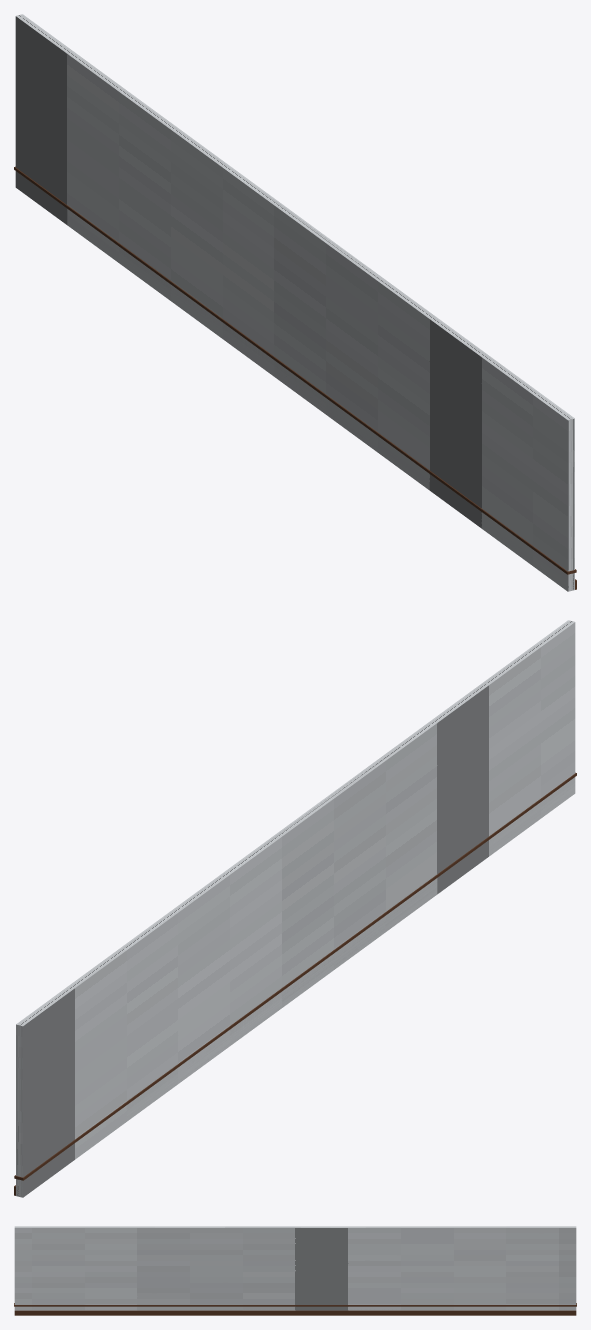
The model's file is wall_w.glb.
3 renders of one model, top to bottom at view 1: azimuth 30°, elevation 25°; view 2: azimuth 150°, elevation 25°; view 3: azimuth 270°, elevation 25°, orthographic. The views are drawn at different scales.
Visible parts, largest first — view 1: Box1, Box3, Box4; view 2: Box1, Box3, Box4; view 3: Box1, Box2, Box4.
Part boxes in pixels (left/top/right/bottom): Box1: left=15, top=14, right=574, bottom=591; Box3: left=15, top=171, right=574, bottom=590; Box4: left=14, top=166, right=576, bottom=574; Box1: left=16, top=620, right=575, bottom=1197; Box3: left=17, top=777, right=575, bottom=1197; Box4: left=14, top=772, right=576, bottom=1180; Box1: left=14, top=1226, right=576, bottom=1310; Box2: left=14, top=1310, right=576, bottom=1315; Box4: left=14, top=1303, right=576, bottom=1306.
Size of the model in its own units: 0.21 by 3.4 by 19.89.
Materials: 2 (1 with a texture image).
